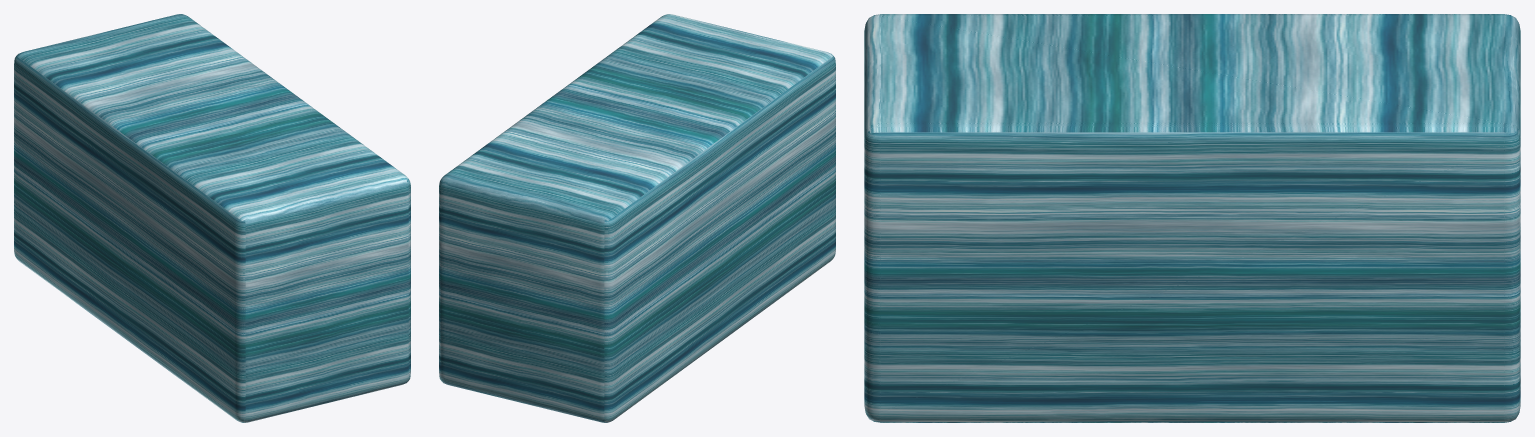
The model's file is paddle.obj.
The picture shows the model from 3 angles, left to right: view 1: azimuth 30°, elevation 25°; view 2: azimuth 150°, elevation 25°; view 3: azimuth 270°, elevation 25°; orthographic projection. The views are drawn at different scales.
Parts seen in each view (by area): view 1: Box003; view 2: Box003; view 3: Box003.
Part boxes in pixels (<box>): Box003: <box>14,14,410,422</box>; Box003: <box>439,14,835,422</box>; Box003: <box>864,14,1520,422</box>.
Size of the model in its own units: 3.5 by 4 by 8.
